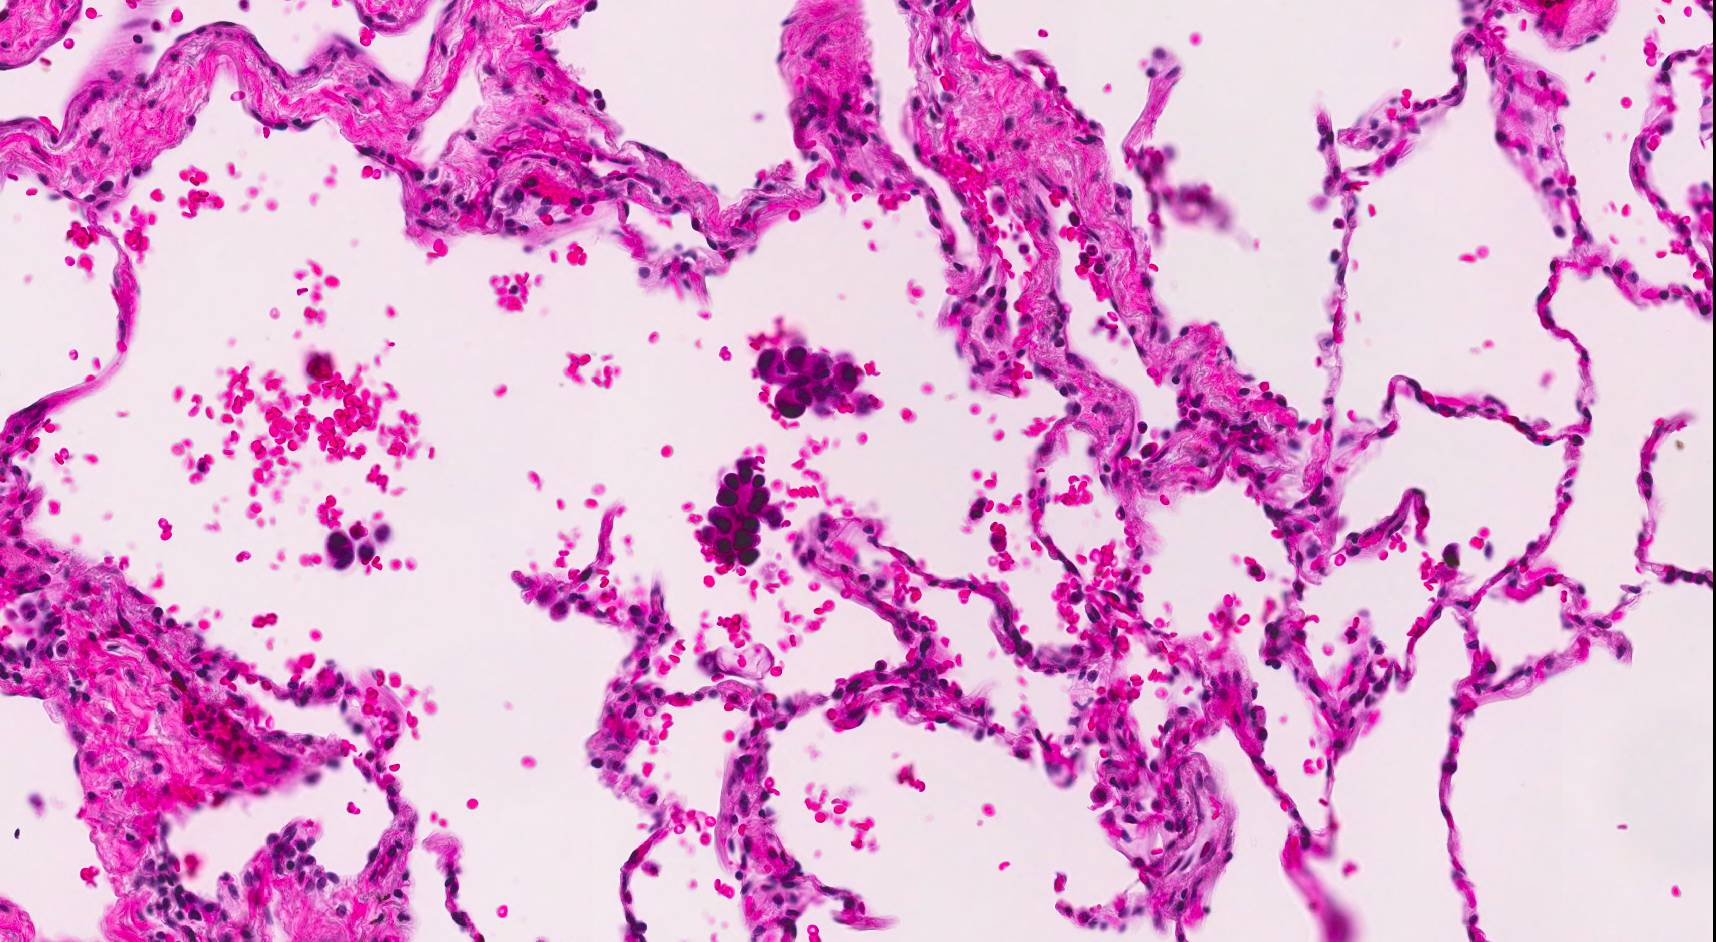stas: (757, 340, 882, 423), (703, 455, 785, 573), (320, 522, 396, 571)
